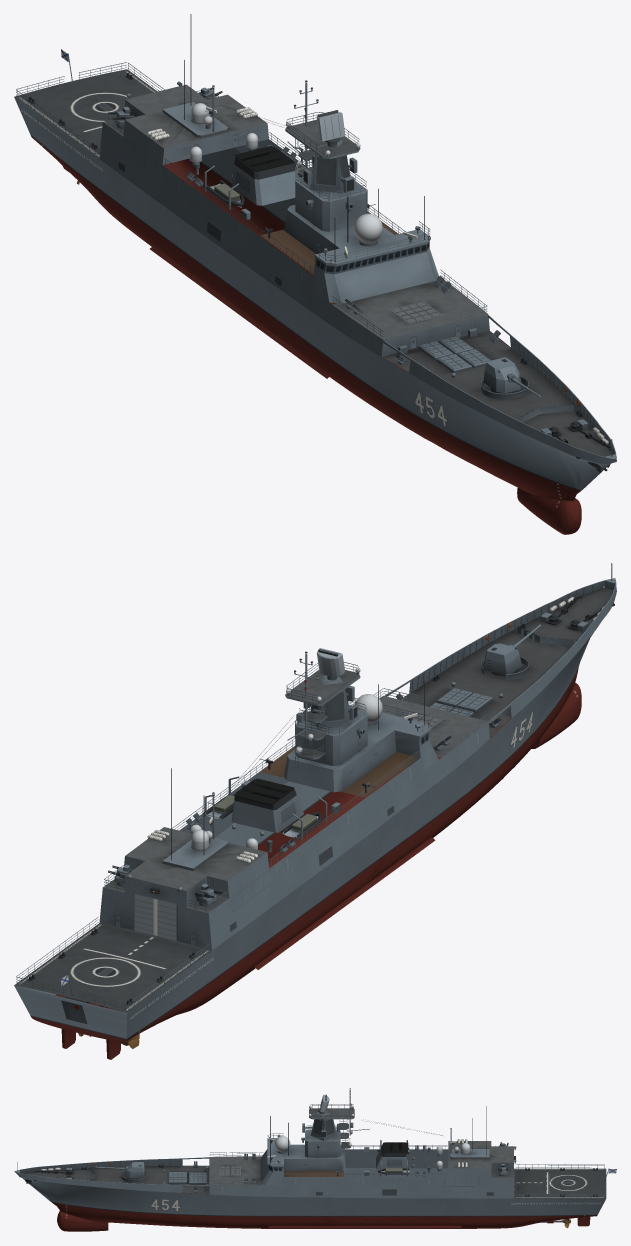
Rendered from admiral_gorshkov_class_frigate.glb.
3 renders of one model, top to bottom at view 1: azimuth 30°, elevation 25°; view 2: azimuth 150°, elevation 25°; view 3: azimuth 270°, elevation 25°, orthographic. The views are drawn at different scales.
Parts seen in each view (by area): view 1: Hull, Superstructure, Sensors, Weapons, Forecastle, Appendages, A192M, Furke4, Boats; view 2: Hull, Superstructure, Sensors, Weapons, Appendages, Forecastle, Boats, A192M, Furke4; view 3: Hull, Superstructure, Sensors, Weapons, Appendages, Forecastle, A192M, Boats.
Boxes of the visible parts, x1,y1,x2,y2 form: Hull: (14, 49, 616, 534); Superstructure: (103, 14, 489, 356); Sensors: (189, 103, 430, 263); Weapons: (186, 146, 528, 399); Forecastle: (397, 328, 614, 458); Appendages: (63, 166, 330, 378); A192M: (483, 357, 521, 393); Furke4: (316, 110, 345, 142); Boats: (203, 146, 307, 209); Hull: (14, 578, 616, 1041); Superstructure: (99, 651, 487, 950); Sensors: (190, 667, 430, 850); Weapons: (186, 656, 528, 852); Appendages: (61, 837, 435, 1059); Forecastle: (411, 563, 614, 698); Boats: (203, 776, 327, 839); A192M: (483, 643, 521, 676); Furke4: (316, 648, 345, 676); Hull: (14, 1149, 616, 1231); Superstructure: (209, 1088, 516, 1185); Sensors: (267, 1105, 470, 1171); Weapons: (121, 1145, 426, 1192); Appendages: (268, 1216, 590, 1228); Forecastle: (17, 1159, 208, 1189); A192M: (125, 1162, 144, 1179); Boats: (377, 1140, 409, 1176).
Size of the model in its own units: 16.6 by 35.75 by 137.
3 materials, 3 textured.
